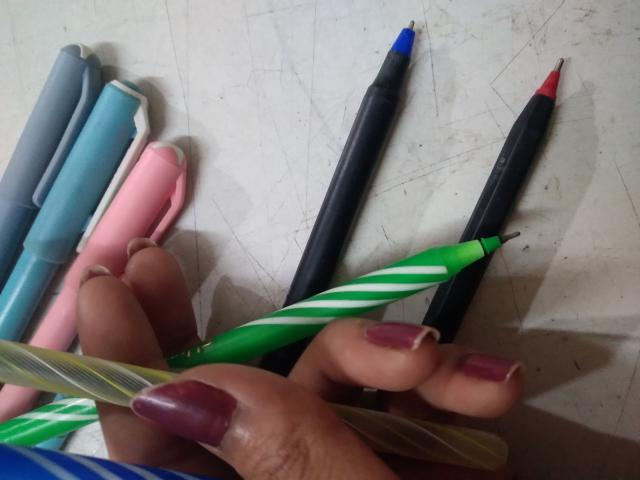PEN: (37, 15, 246, 480), (134, 0, 450, 187), (211, 268, 466, 432), (160, 400, 437, 480)
